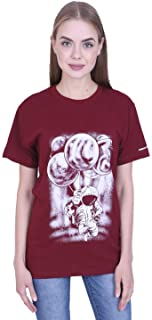tshirt: (1, 83, 150, 280)
